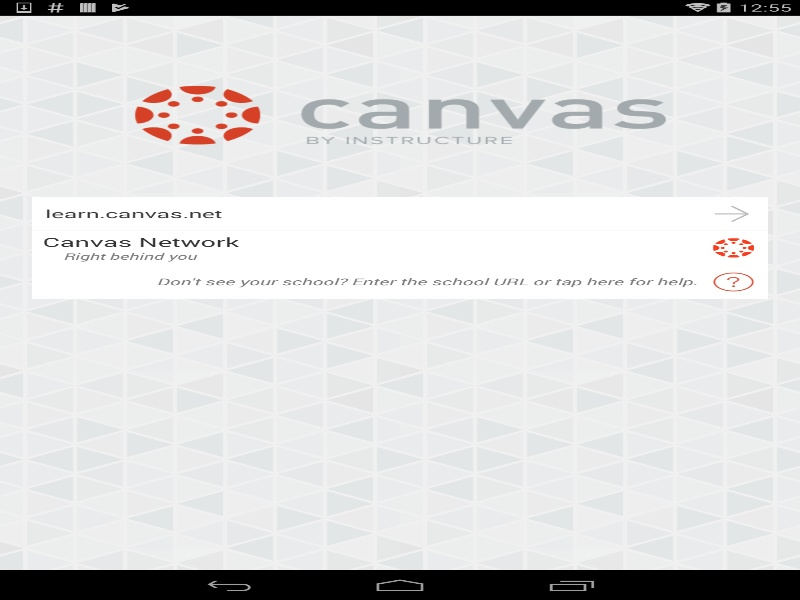Input: (32, 196, 696, 230)
